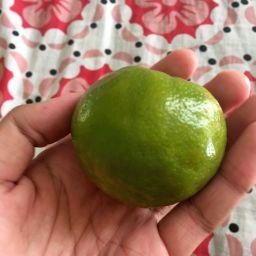Unripe: (73, 66, 227, 208)
